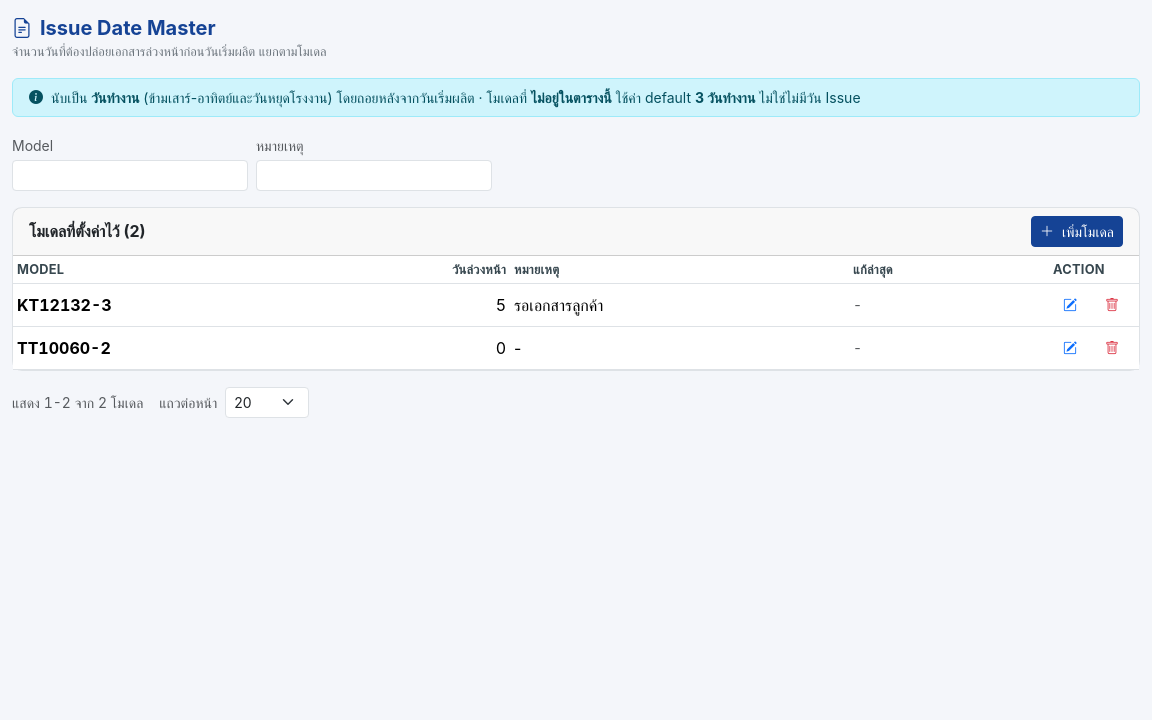
Test: จำนวนวันที่ใช้ไม่ได้ต้องไม่ถูกส่งไป backend
Expected: the text "KT12132-3" is shown, [13, 283, 370, 326]
Click the button "เพิ่มโมเดล" at (1077, 231), box [1031, 216, 1123, 247]
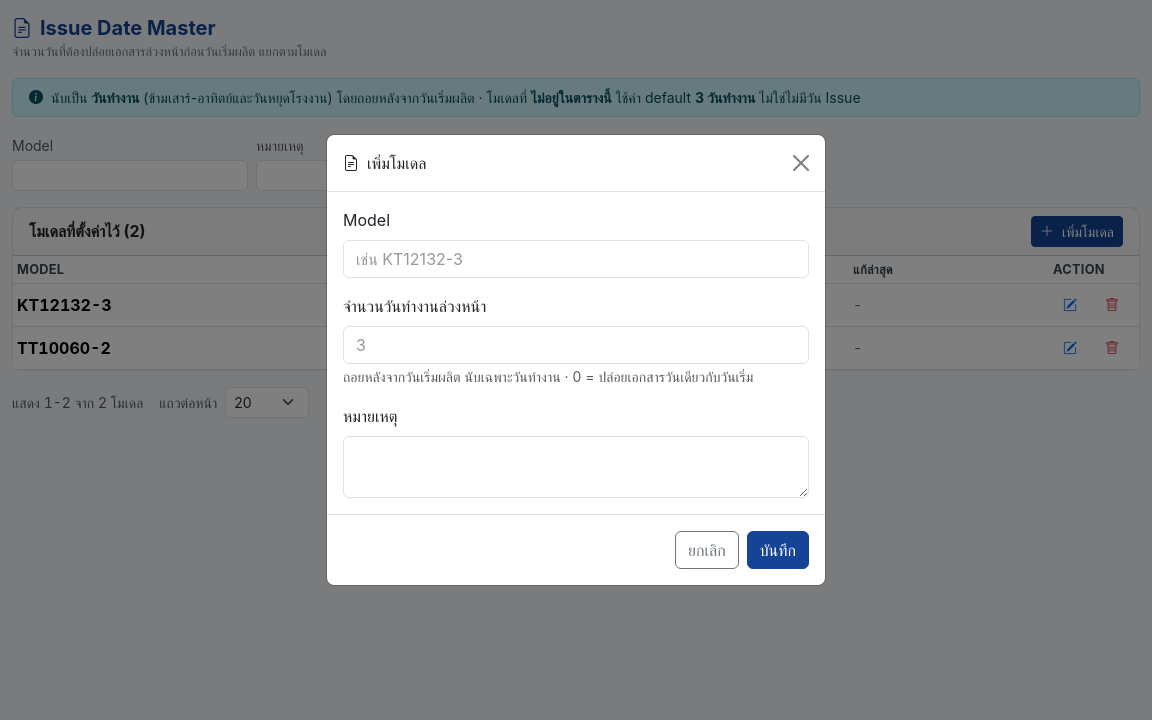
Type "NEW-1" into the field with id "idm-model" at (576, 259), box [343, 240, 809, 278]
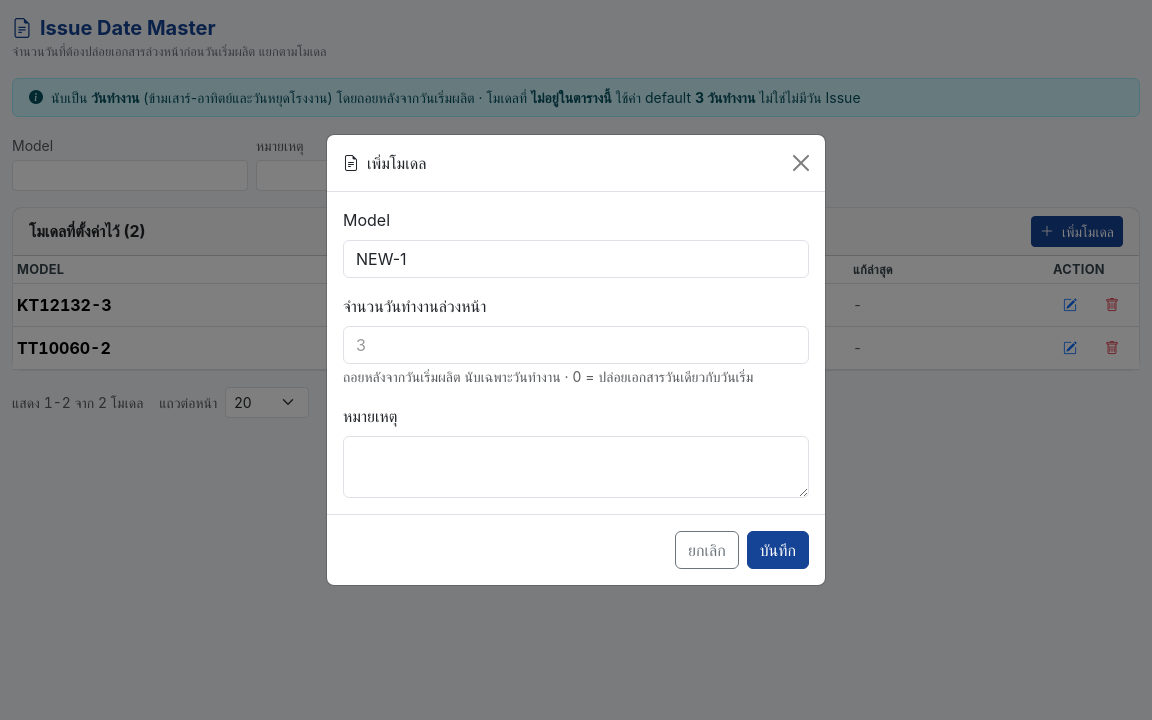
Type "2.5" into the number field with id "idm-lead" at (576, 345), box [343, 326, 809, 364]
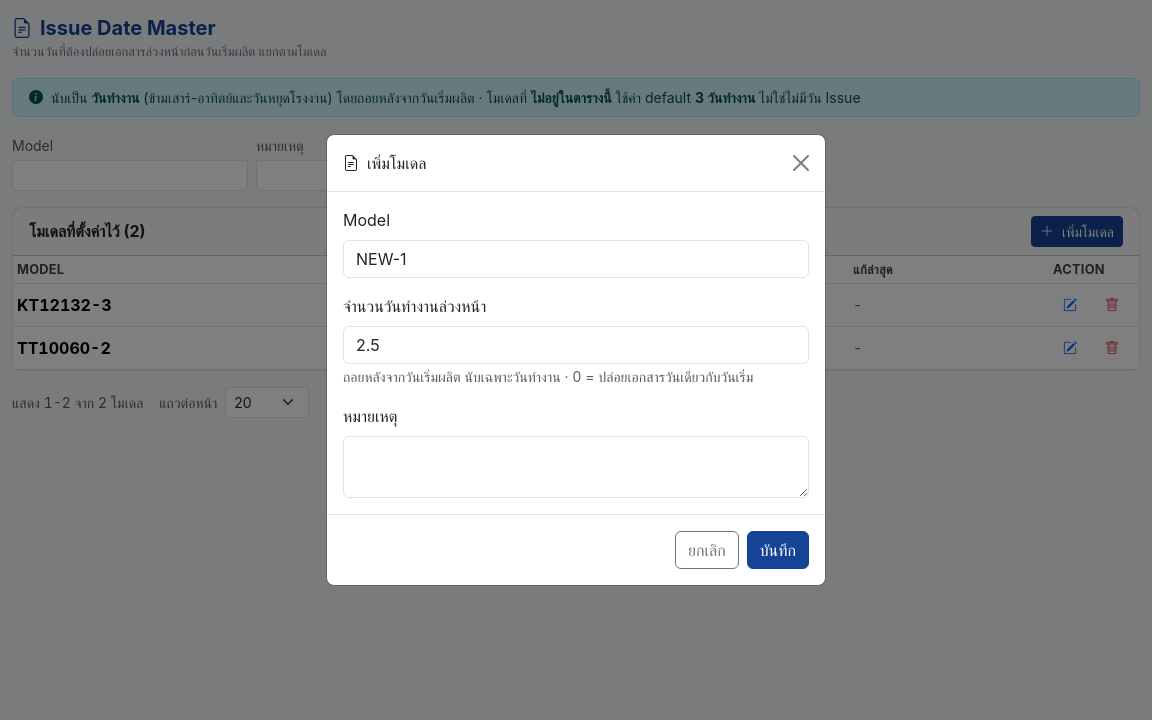
Click the button "บันทึก" at (778, 550), box [747, 531, 809, 569]
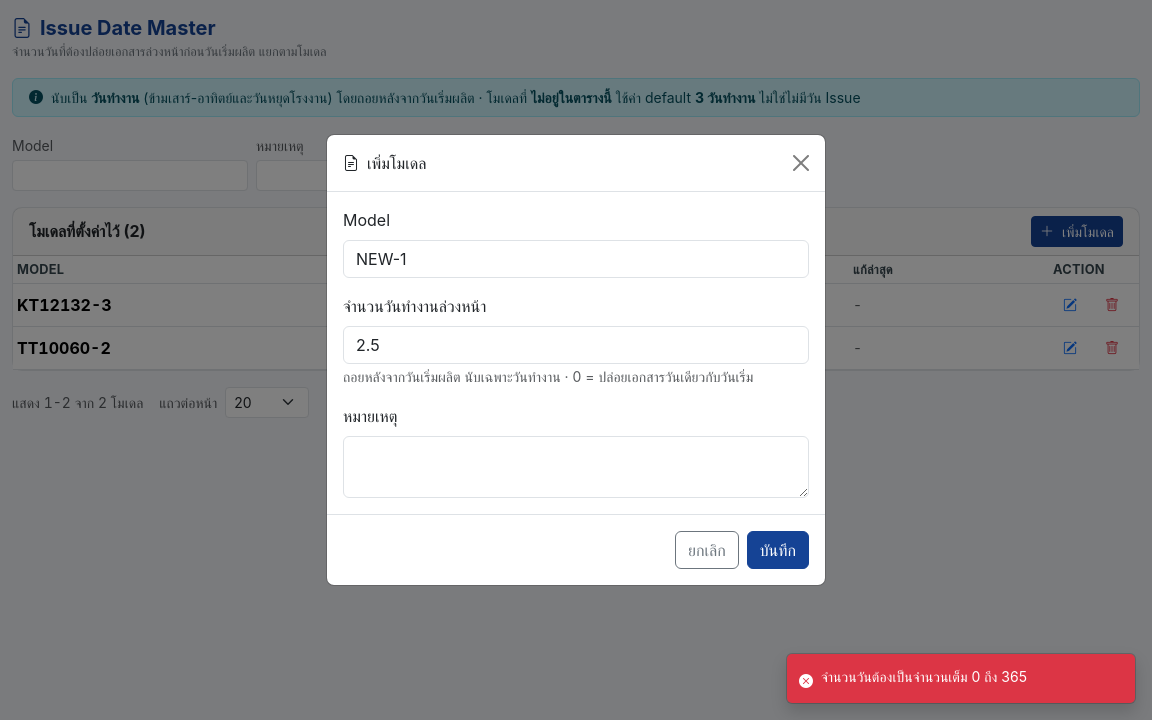
Expected: the text "จำนวนวันต้องเป็นจำนวนเต็ม 0 ถึง 365" is shown, [821, 666, 1027, 687]
